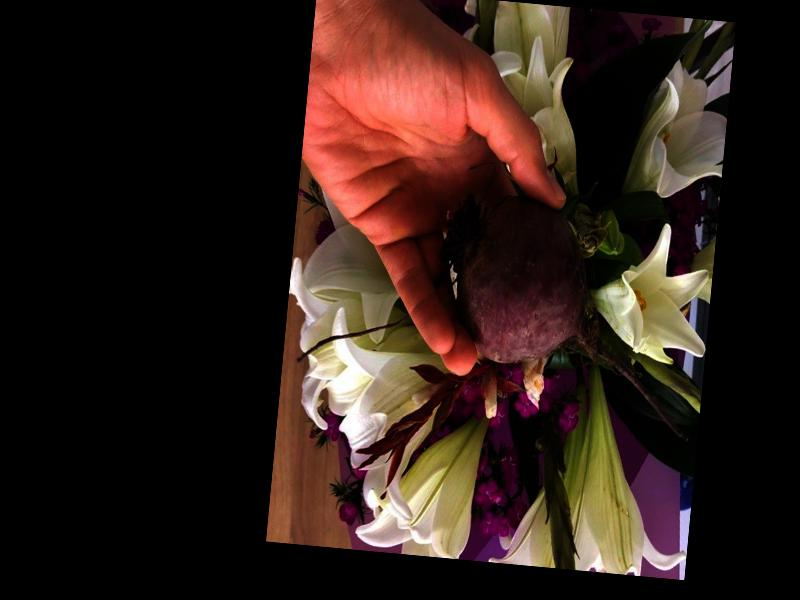Beet: (426, 190, 707, 442)
